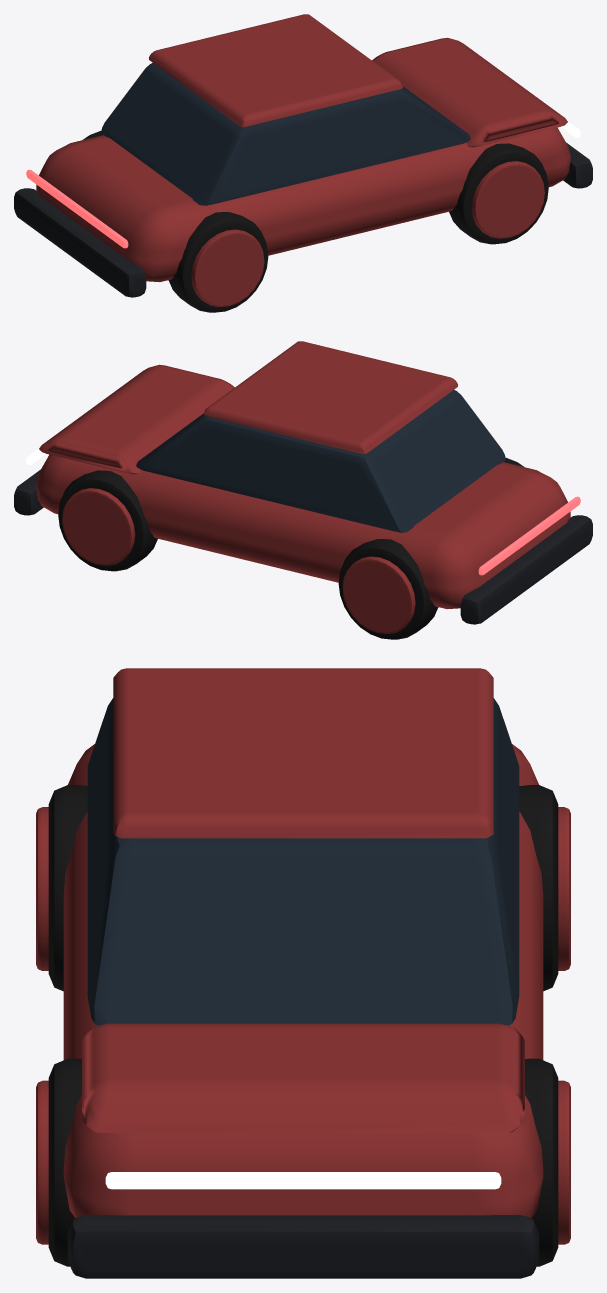
3 renders of one model, top to bottom at view 1: azimuth 30°, elevation 25°; view 2: azimuth 150°, elevation 25°; view 3: azimuth 270°, elevation 25°, orthographic. The views are drawn at different scales.
Visible parts, largest first — view 1: body, cabin, roof, nose, bumper-rear, wheel-+10--1-aero, wheel--10--1-aero, wheel-+10--1-tyre, wheel--10--1-tyre, lightbar-rear, bumper-front; view 2: body, cabin, roof, nose, bumper-rear, wheel-+10-1-aero, wheel--10-1-aero, wheel-+10-1-tyre, wheel--10-1-tyre, lightbar-rear, bumper-front; view 3: cabin, roof, nose, body, bumper-front, lightbar-front, wheel-+10-1-tyre, wheel-+10--1-tyre, wheel--10-1-tyre, wheel--10--1-tyre, wheel-+10-1-aero, wheel-+10--1-aero (+2 smaller).
Part boxes in pixels (x1,y1,x2,y2): body: (36, 127, 570, 282); cabin: (101, 63, 470, 205); roof: (149, 14, 403, 127); nose: (372, 37, 567, 147); bumper-rear: (14, 188, 146, 297); wheel-+10--1-aero: (471, 161, 544, 238); wheel--10--1-aero: (191, 229, 264, 306); wheel-+10--1-tyre: (449, 143, 548, 244); wheel--10--1-tyre: (168, 212, 268, 312); lightbar-rear: (26, 169, 128, 248); bumper-front: (563, 142, 592, 188); body: (36, 454, 570, 609); cabin: (136, 390, 505, 532); roof: (203, 341, 457, 454); nose: (39, 364, 234, 474); bumper-rear: (460, 515, 592, 624); wheel-+10-1-aero: (62, 488, 135, 565); wheel--10-1-aero: (342, 556, 415, 633); wheel-+10-1-tyre: (58, 470, 157, 571); wheel--10-1-tyre: (338, 539, 438, 639); lightbar-rear: (478, 496, 580, 575); bumper-front: (14, 469, 43, 515); cabin: (87, 698, 519, 1025); roof: (113, 668, 493, 838); nose: (82, 1023, 524, 1132); body: (63, 744, 543, 1217); bumper-front: (67, 1215, 539, 1278); lightbar-front: (105, 1172, 501, 1189); wheel-+10-1-tyre: (525, 1058, 558, 1266); wheel-+10--1-tyre: (48, 1058, 81, 1266); wheel--10-1-tyre: (519, 785, 558, 991); wheel--10--1-tyre: (48, 785, 87, 991); wheel-+10-1-aero: (558, 1080, 570, 1244); wheel-+10--1-aero: (36, 1080, 48, 1244).
Bounding box in the file's own units: 34.2 × 12.3 × 16.9.
